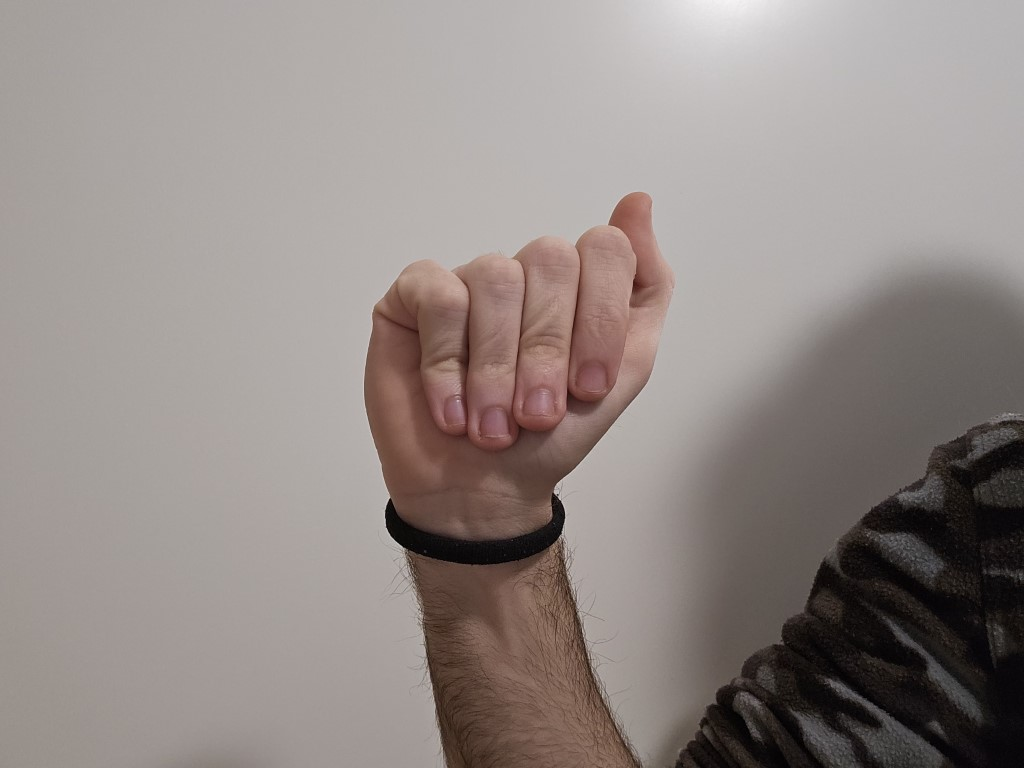a: (338, 179, 686, 571)
